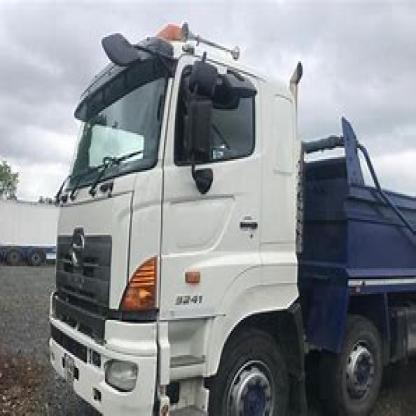dump_truck: (31, 30, 414, 414)
